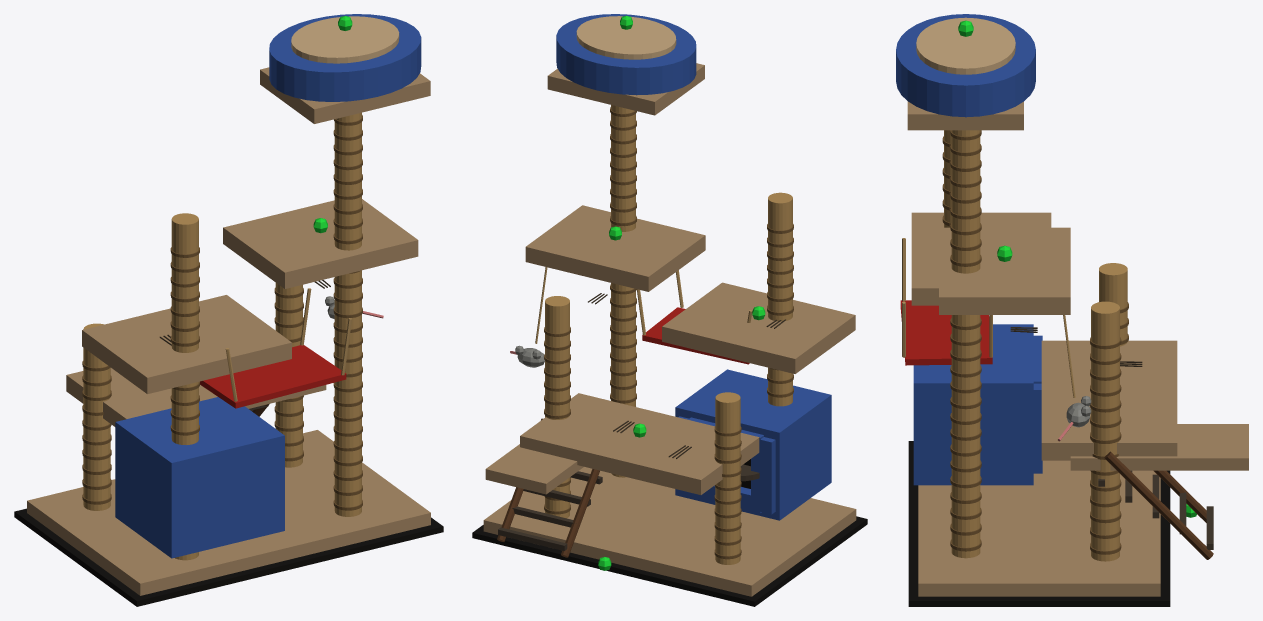
Rendered from multi_level_cat_tree.obj.
The picture shows the model from 3 angles, left to right: view 1: azimuth 30°, elevation 25°; view 2: azimuth 150°, elevation 25°; view 3: azimuth 270°, elevation 25°; orthographic projection. The views are drawn at different scales.
Parts seen in each view (by area): view 1: Large_rectangular_weighted_base_carpeted, Middle_platform_left_carpeted, Middle_platform_right_carpeted, Cat_condo_cubby_with_open_front_back_wall, Post_back_right_sisal_scratching_post_core, Top_round_nest_perch_bowl_outer, Cat_condo_cubby_with_open_front_roof, Cat_condo_cubby_with_open_front_left_wall, Base_dark_shadow_underlay, Post_back_left_sisal_scratching_post_core, Soft_hanging_hammock_sling, Top_round_nest_perch_soft_center (+6 smaller); view 2: Large_rectangular_weighted_base_carpeted, Lower_platform_front_carpeted, Middle_platform_left_carpeted, Middle_platform_right_carpeted, Top_round_nest_perch_bowl_outer, Cat_condo_cubby_with_open_front_left_wall, Post_back_right_sisal_scratching_post_core, Cat_condo_cubby_with_open_front_roof, Base_dark_shadow_underlay, Post_front_left_sisal_scratching_post_core, Post_back_left_sisal_scratching_post_core, Top_round_nest_perch_soft_center (+9 smaller); view 3: Large_rectangular_weighted_base_carpeted, Lower_platform_front_carpeted, Middle_platform_right_carpeted, Post_back_right_sisal_scratching_post_core, Top_round_nest_perch_bowl_outer, Cat_condo_cubby_with_open_front_right_wall, Post_front_right_sisal_scratching_post_core, Base_dark_shadow_underlay, Angled_scratching_ramp_board, Cat_condo_cubby_with_open_front_roof, Top_round_nest_perch_soft_center, Middle_platform_left_carpeted (+9 smaller).
Part boxes in pixels (left/top/right/bottom): Large_rectangular_weighted_base_carpeted: left=27, top=430, right=430, bottom=595; Middle_platform_left_carpeted: left=82, top=295, right=291, bottom=394; Middle_platform_right_carpeted: left=223, top=199, right=418, bottom=288; Cat_condo_cubby_with_open_front_back_wall: left=164, top=430, right=284, bottom=557; Post_back_right_sisal_scratching_post_core: left=334, top=112, right=361, bottom=516; Top_round_nest_perch_bowl_outer: left=269, top=14, right=421, bottom=101; Cat_condo_cubby_with_open_front_roof: left=115, top=397, right=284, bottom=476; Cat_condo_cubby_with_open_front_left_wall: left=115, top=419, right=184, bottom=557; Base_dark_shadow_underlay: left=14, top=508, right=443, bottom=606; Post_back_left_sisal_scratching_post_core: left=171, top=213, right=198, bottom=560; Soft_hanging_hammock_sling: left=200, top=345, right=346, bottom=408; Top_round_nest_perch_soft_center: left=291, top=16, right=399, bottom=63; Large_rectangular_weighted_base_carpeted: left=483, top=467, right=856, bottom=596; Lower_platform_front_carpeted: left=520, top=393, right=759, bottom=494; Middle_platform_left_carpeted: left=662, top=282, right=855, bottom=373; Middle_platform_right_carpeted: left=525, top=205, right=705, bottom=291; Top_round_nest_perch_bowl_outer: left=556, top=14, right=696, bottom=95; Cat_condo_cubby_with_open_front_left_wall: left=768, top=392, right=831, bottom=519; Post_back_right_sisal_scratching_post_core: left=611, top=105, right=635, bottom=477; Cat_condo_cubby_with_open_front_roof: left=675, top=369, right=831, bottom=441; Base_dark_shadow_underlay: left=472, top=516, right=867, bottom=606; Post_front_left_sisal_scratching_post_core: left=715, top=392, right=740, bottom=564; Post_back_left_sisal_scratching_post_core: left=768, top=192, right=792, bottom=406; Top_round_nest_perch_soft_center: left=576, top=16, right=676, bottom=59; Large_rectangular_weighted_base_carpeted: left=918, top=460, right=1160, bottom=596; Lower_platform_front_carpeted: left=1041, top=340, right=1177, bottom=460; Middle_platform_right_carpeted: left=939, top=227, right=1070, bottom=314; Post_back_right_sisal_scratching_post_core: left=951, top=130, right=980, bottom=558; Top_round_nest_perch_bowl_outer: left=896, top=14, right=1035, bottom=117; Cat_condo_cubby_with_open_front_right_wall: left=913, top=382, right=1033, bottom=484; Post_front_right_sisal_scratching_post_core: left=1091, top=301, right=1119, bottom=561; Base_dark_shadow_underlay: left=908, top=441, right=1170, bottom=606; Angled_scratching_ramp_board: left=1070, top=424, right=1248, bottom=470; Cat_condo_cubby_with_open_front_roof: left=913, top=324, right=1033, bottom=397; Top_round_nest_perch_soft_center: left=916, top=17, right=1015, bottom=74; Middle_platform_left_carpeted: left=911, top=212, right=1051, bottom=305.
Size of what is drawn, in the model's own units: 2.02 by 3.12 by 1.82.
